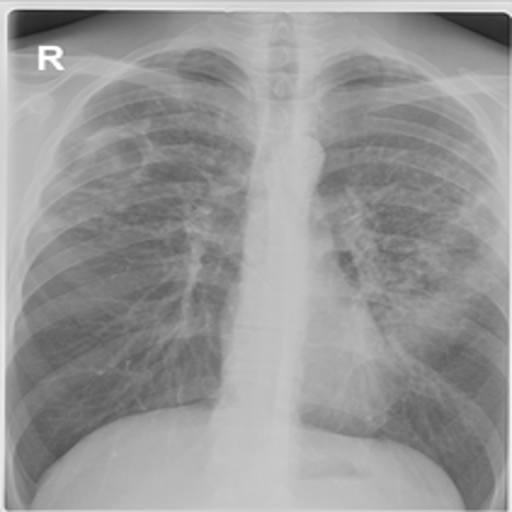TB: (350, 146, 491, 382), (75, 119, 211, 341)
